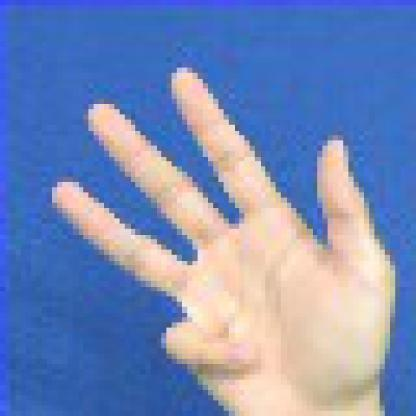nine: (14, 35, 412, 415)
